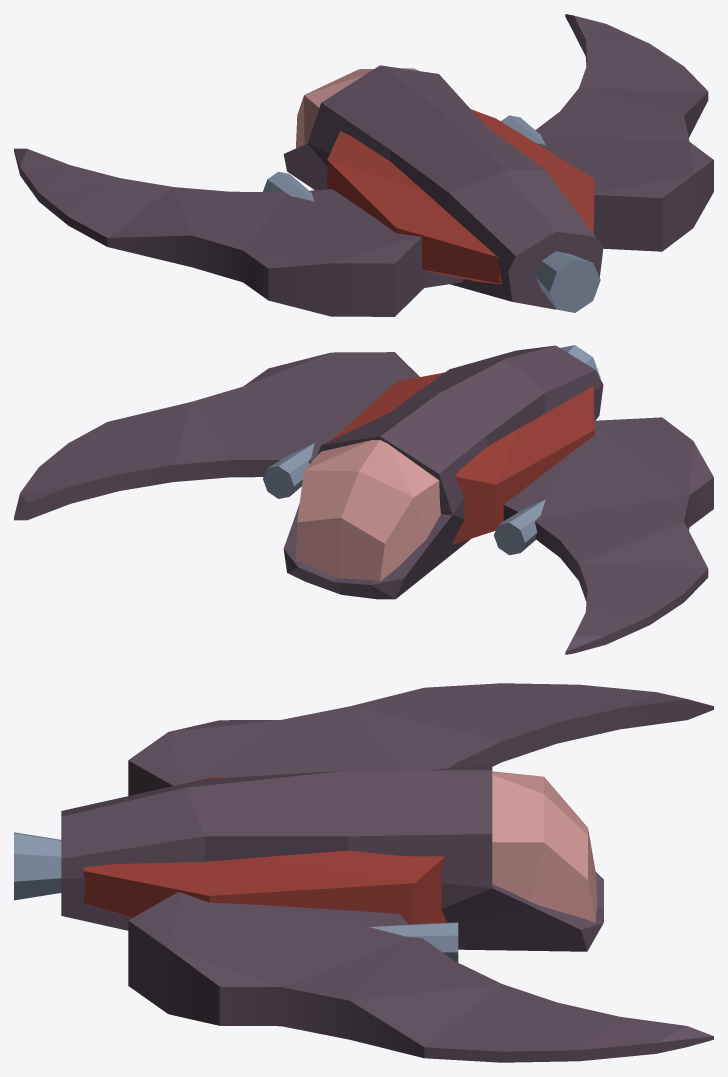
Rendered from EnemyShip_1.fbx.
3 views of the same model, one above another, from view 1: azimuth 30°, elevation 25°; view 2: azimuth 150°, elevation 25°; view 3: azimuth 270°, elevation 25° (orthographic). The views are drawn at different scales.
Visible parts, largest first — view 1: Cylinder.001, Cube, Cube.003, Cube.002, Cylinder.000, Cube.001, Cylinder.003, Cylinder.002; view 2: Cylinder.001, Cube, Cube.001, Cube.003, Cube.002, Cylinder.003, Cylinder.002; view 3: Cylinder.001, Cube, Cube.002, Cube.001, Cylinder.000, Cylinder.002.
Part boxes in pixels (bbox=[...]): Cylinder.001: bbox=[14, 14, 713, 316]; Cube: bbox=[283, 65, 603, 309]; Cube.003: bbox=[327, 131, 501, 284]; Cube.002: bbox=[471, 109, 594, 234]; Cylinder.000: bbox=[536, 251, 600, 312]; Cube.001: bbox=[296, 68, 418, 148]; Cylinder.003: bbox=[263, 171, 314, 201]; Cylinder.002: bbox=[501, 115, 545, 144]; Cylinder.001: bbox=[14, 352, 713, 654]; Cube: bbox=[283, 345, 603, 599]; Cube.001: bbox=[296, 440, 440, 581]; Cube.003: bbox=[452, 385, 594, 544]; Cube.002: bbox=[330, 372, 444, 440]; Cylinder.003: bbox=[494, 499, 545, 555]; Cylinder.002: bbox=[263, 443, 314, 498]; Cylinder.001: bbox=[128, 683, 713, 1062]; Cube: bbox=[61, 763, 603, 951]; Cube.002: bbox=[83, 850, 446, 924]; Cube.001: bbox=[492, 771, 597, 922]; Cylinder.000: bbox=[14, 832, 61, 900]; Cylinder.002: bbox=[369, 922, 458, 962].
Bounding box in the file's own units: 1427 × 306 × 1146.
